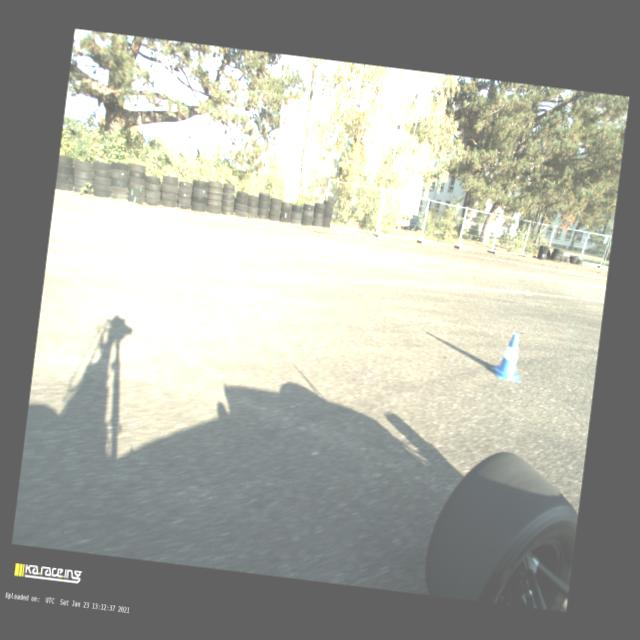blue_cone: (488, 330, 527, 382)
